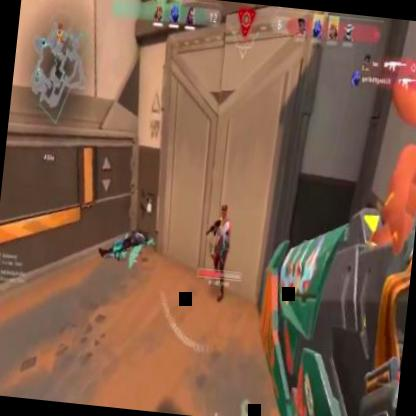enemy: (206, 202, 234, 303)
enemy_head: (220, 202, 228, 219)
